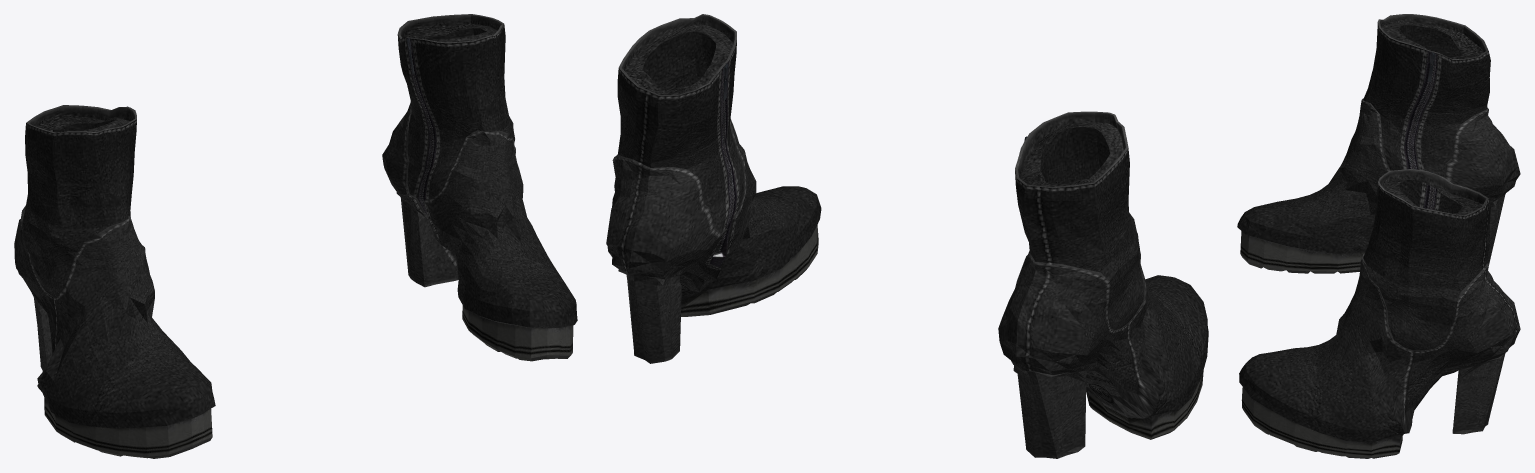
The model's file is mhw_punkduck_female_half-boots.glb.
3 renders of one model, left to right at view 1: azimuth 30°, elevation 25°; view 2: azimuth 150°, elevation 25°; view 3: azimuth 270°, elevation 25°, orthographic. The views are drawn at different scales.
Visible parts, largest first — view 1: mhw_punkduck_female_half-boots; view 2: mhw_punkduck_female_half-boots; view 3: mhw_punkduck_female_half-boots.
Part boxes in pixels (bbox=[...]): mhw_punkduck_female_half-boots: bbox=[14, 14, 577, 458]; mhw_punkduck_female_half-boots: bbox=[606, 14, 1208, 458]; mhw_punkduck_female_half-boots: bbox=[1237, 14, 1520, 458].
Bounding box in the file's own units: 0.5596 × 0.3084 × 0.3124.
Materials: 1 (1 with a texture image).
